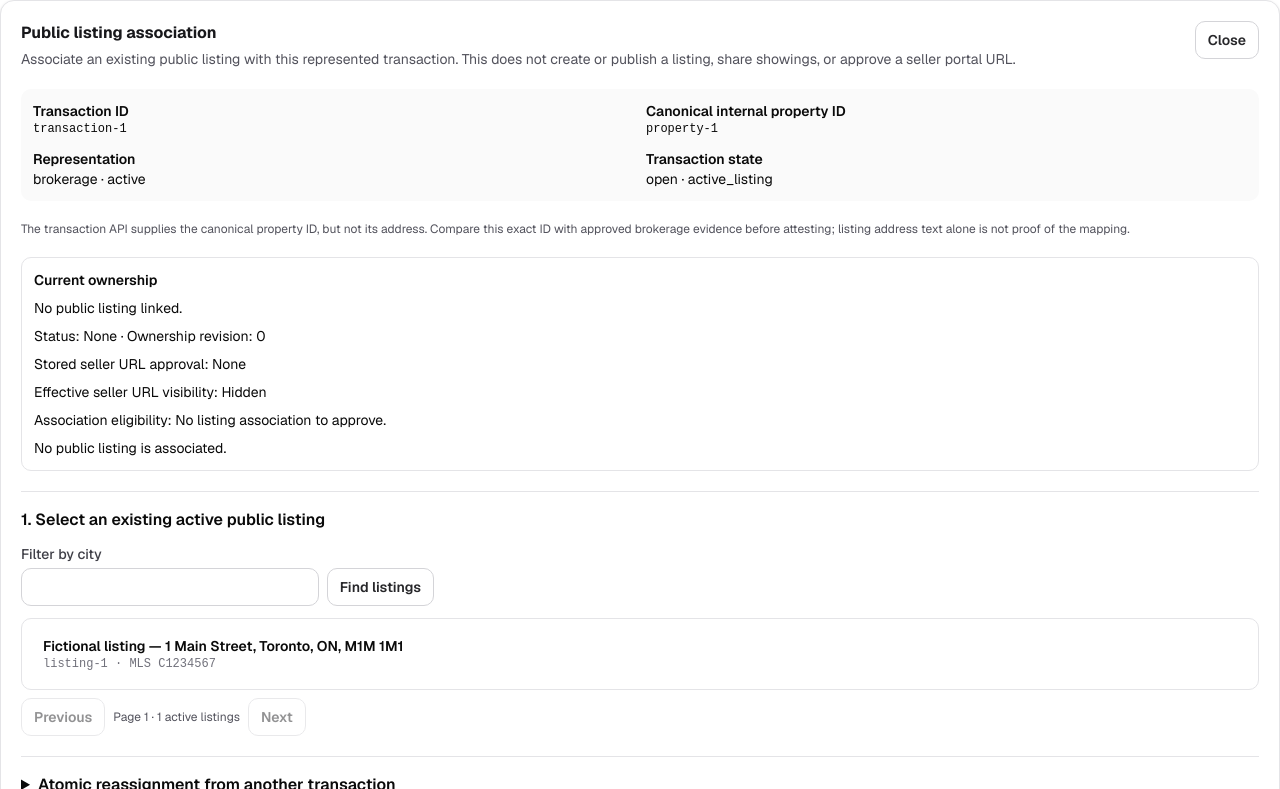
links an attested exact listing with revision and keeps seller URL unapproved
This screenshot has width=1280, height=789.
Step 1. Click the 3rd button → {"x": 223, "y": 646}, box top-left (30, 627), bottom-right (1250, 681)
(page scrolled)
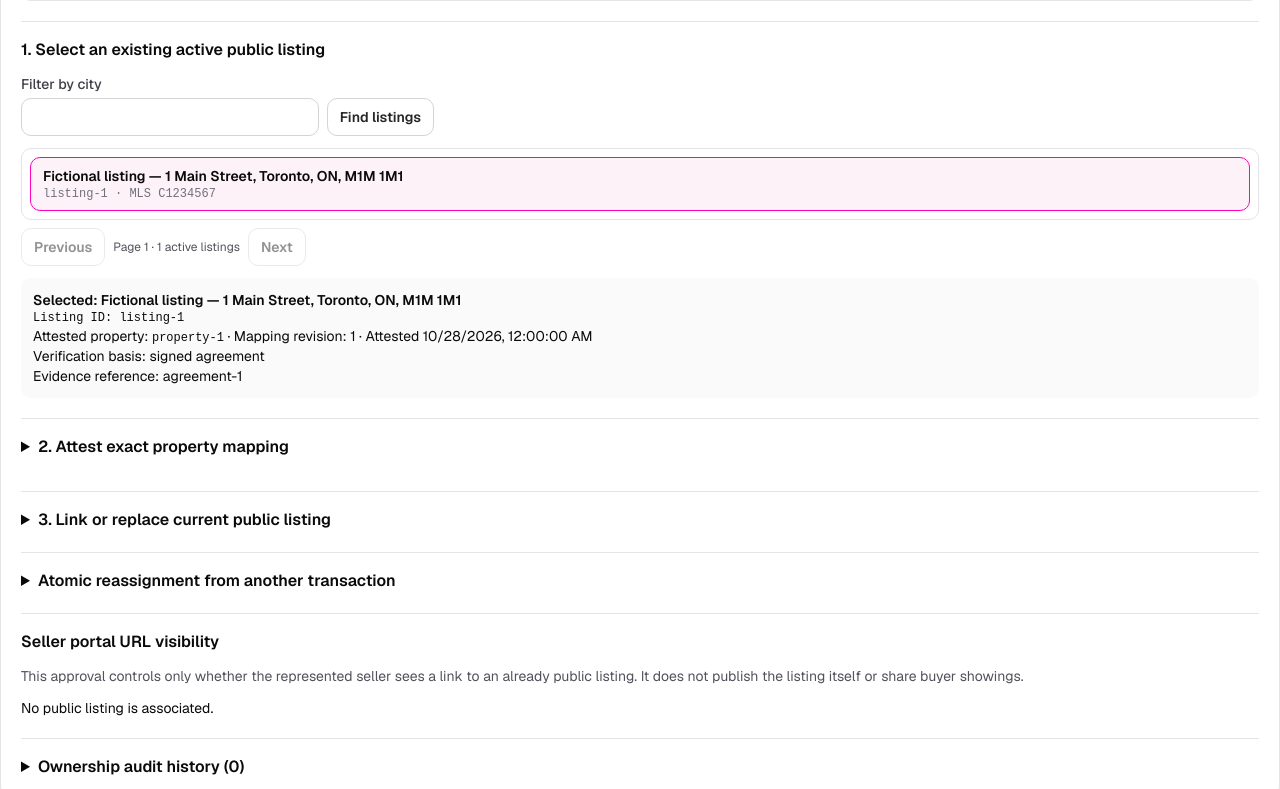
Expected: the text "Attested property:" is shown, top-left (33, 327), bottom-right (152, 345)
Step 2. Click the heading "3. Link or replace current public listing" → {"x": 184, "y": 520}, box top-left (38, 509), bottom-right (331, 530)
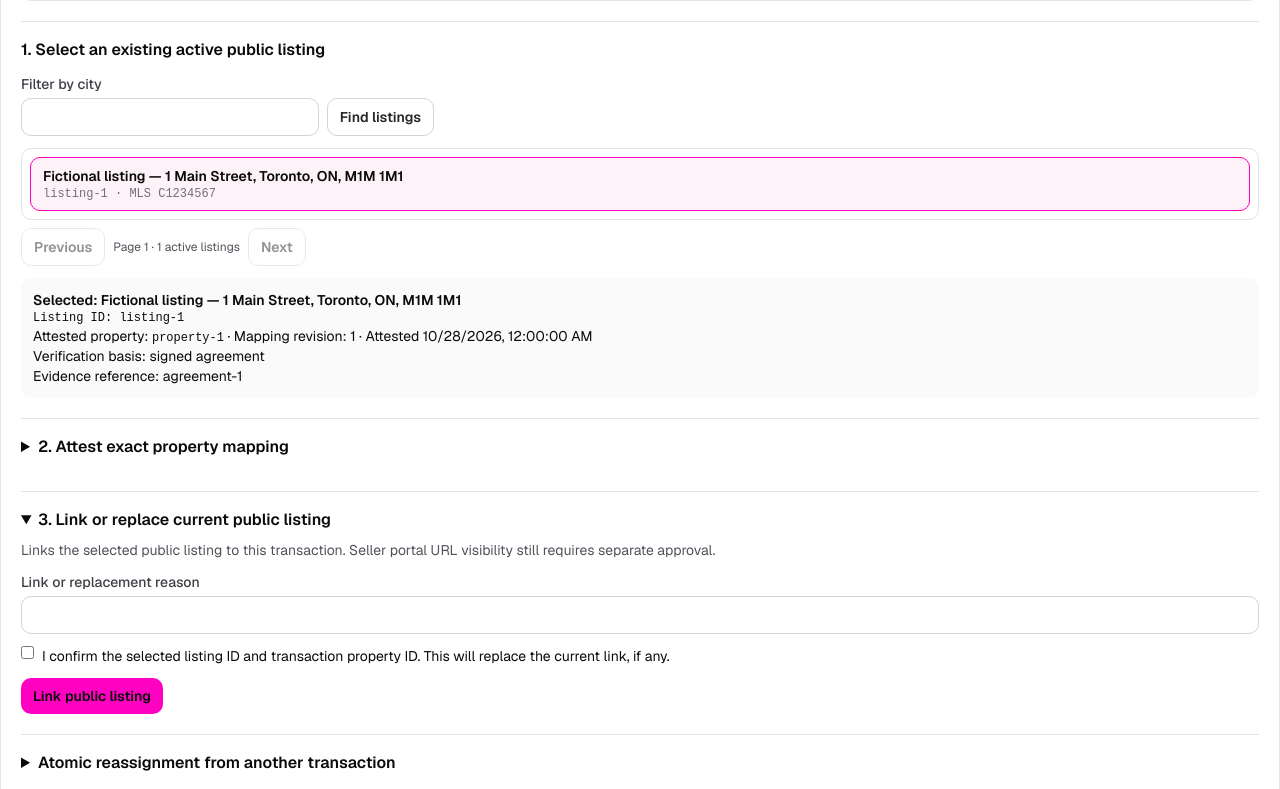
Step 3. Type " Broker review " into the field labelled "Link or replacement reason" → {"x": 640, "y": 615}, box top-left (21, 596), bottom-right (1259, 634)
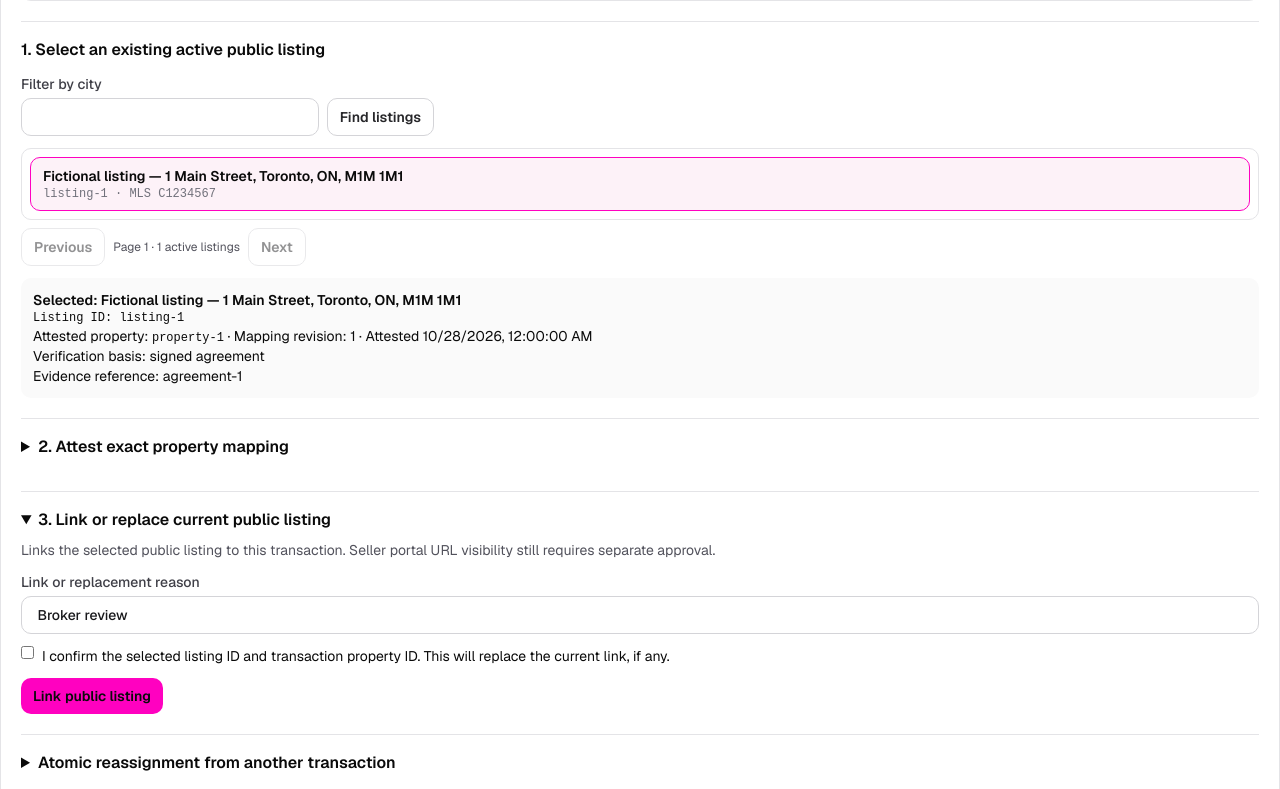
Step 4. Click the checkbox labelled "I confirm the selected listing ID" → {"x": 28, "y": 652}, box top-left (21, 646), bottom-right (34, 659)
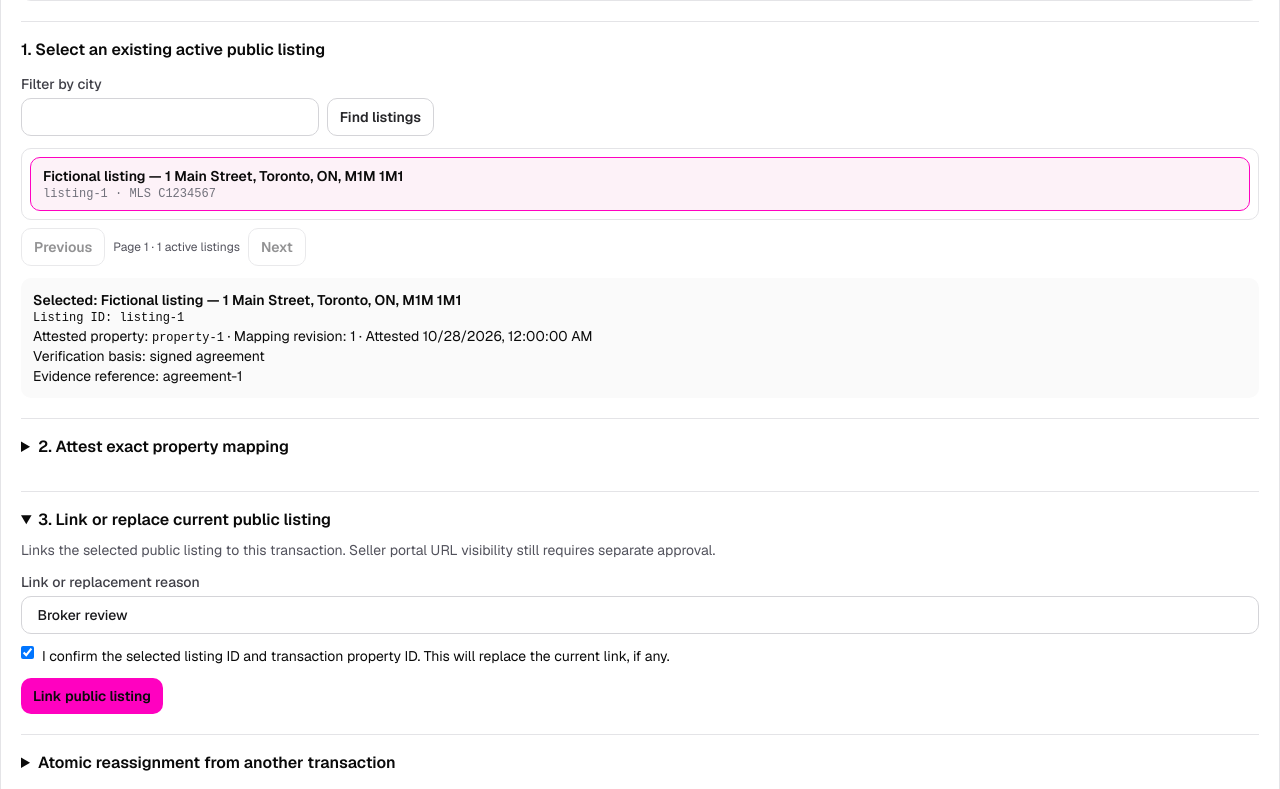
Step 5. Click the button "Link public listing" → {"x": 92, "y": 696}, box top-left (21, 678), bottom-right (163, 714)
(page scrolled)
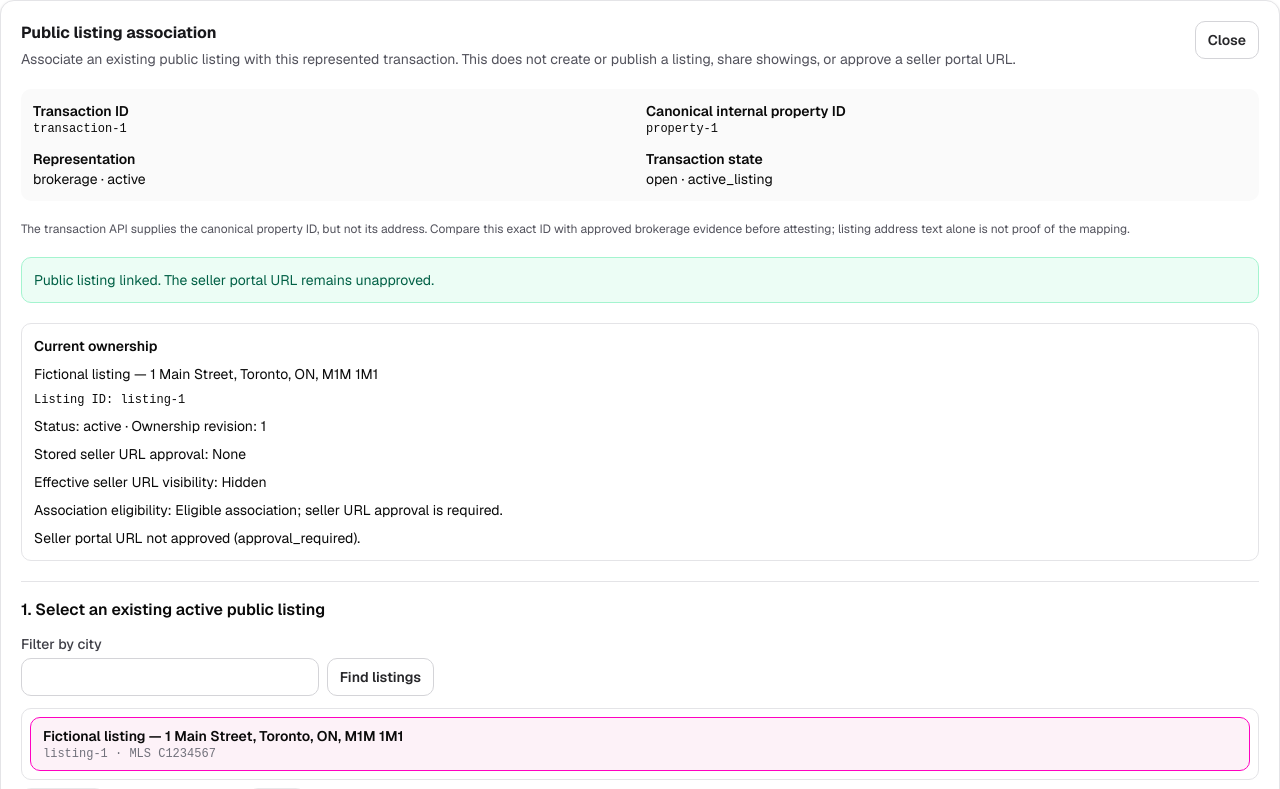
Expected: the text "Public listing linked. The seller portal URL remains unapproved." is shown, top-left (21, 257), bottom-right (1259, 303)
